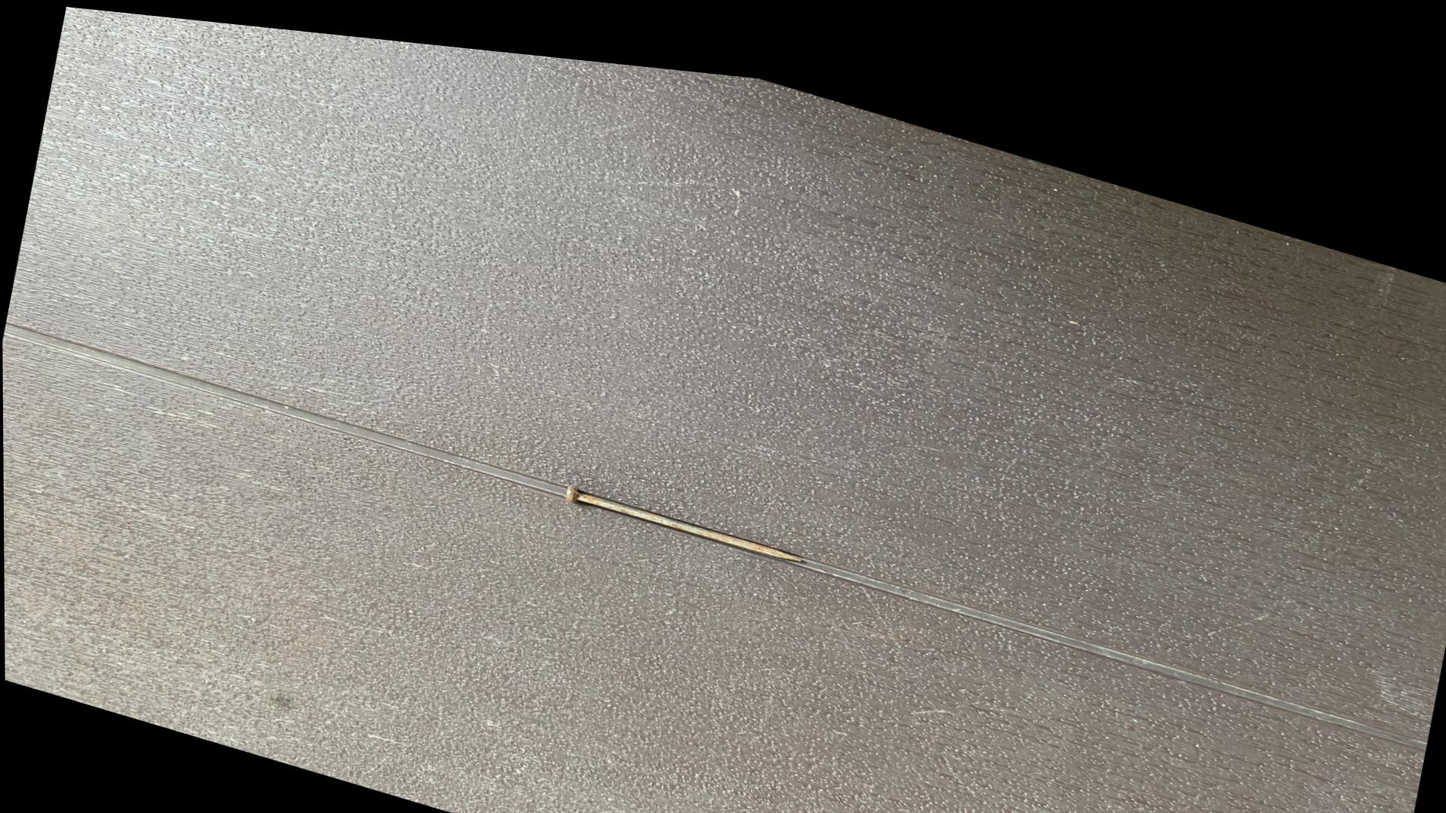nail: (548, 456, 806, 559)
